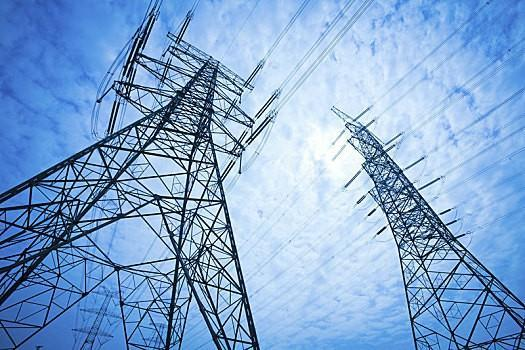power_tower: (3, 20, 260, 350), (325, 100, 525, 350)
